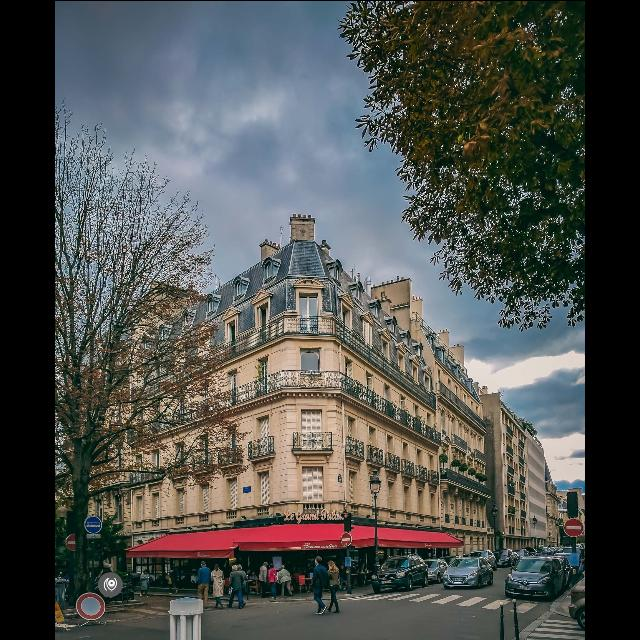head: (316, 556, 322, 566), (328, 560, 334, 568), (232, 565, 238, 571), (214, 564, 220, 570), (270, 563, 274, 569), (237, 565, 241, 571), (202, 561, 206, 567), (362, 564, 366, 568), (281, 565, 285, 569), (264, 562, 268, 566), (144, 570, 148, 574), (170, 568, 173, 570)
person: (312, 556, 328, 616), (326, 560, 342, 614), (226, 564, 244, 610), (196, 561, 212, 611), (210, 564, 226, 610), (235, 564, 249, 608), (278, 564, 294, 598), (258, 561, 270, 599), (268, 562, 278, 600), (140, 568, 152, 598), (168, 567, 178, 595), (357, 564, 368, 586)
